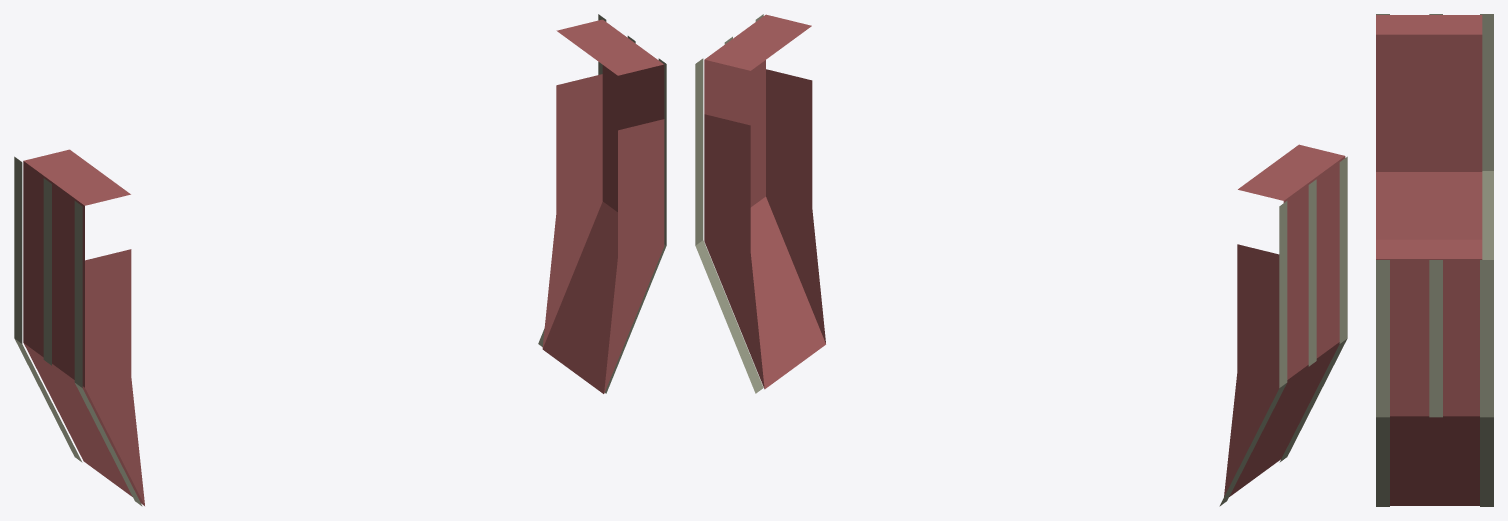
Rendered from mr-duckets.dae.
3 renders of one model, left to right at view 1: azimuth 30°, elevation 25°; view 2: azimuth 150°, elevation 25°; view 3: azimuth 270°, elevation 25°, orthographic. The views are drawn at different scales.
Visible parts, largest first — view 1: Plane_115, Plane_123, Plane_121, Plane_122, Plane_120, Plane_116; view 2: Plane_115, Plane_123, Plane_117, Plane_122, Plane_121, Plane_120; view 3: Plane_123, Plane_115, Plane_117, Plane_116, Plane_121, Plane_118.
Boxes of the visible parts, bbox=[...] form: Plane_115: bbox=[542, 19, 664, 393]; Plane_123: bbox=[23, 149, 144, 505]; Plane_121: bbox=[14, 156, 82, 462]; Plane_122: bbox=[74, 201, 142, 506]; Plane_120: bbox=[43, 178, 51, 365]; Plane_116: bbox=[605, 58, 666, 393]; Plane_115: bbox=[704, 14, 825, 389]; Plane_123: bbox=[1224, 144, 1345, 496]; Plane_117: bbox=[695, 58, 763, 393]; Plane_122: bbox=[1279, 156, 1347, 462]; Plane_121: bbox=[1219, 201, 1287, 506]; Plane_120: bbox=[1308, 179, 1316, 366]; Plane_123: bbox=[1376, 15, 1482, 239]; Plane_115: bbox=[1376, 239, 1482, 505]; Plane_117: bbox=[1480, 260, 1493, 506]; Plane_116: bbox=[1376, 260, 1389, 506]; Plane_121: bbox=[1480, 14, 1493, 259]; Plane_118: bbox=[1429, 260, 1442, 417].
Size of the model in its own units: 2.52 by 0.51 by 1.3.
